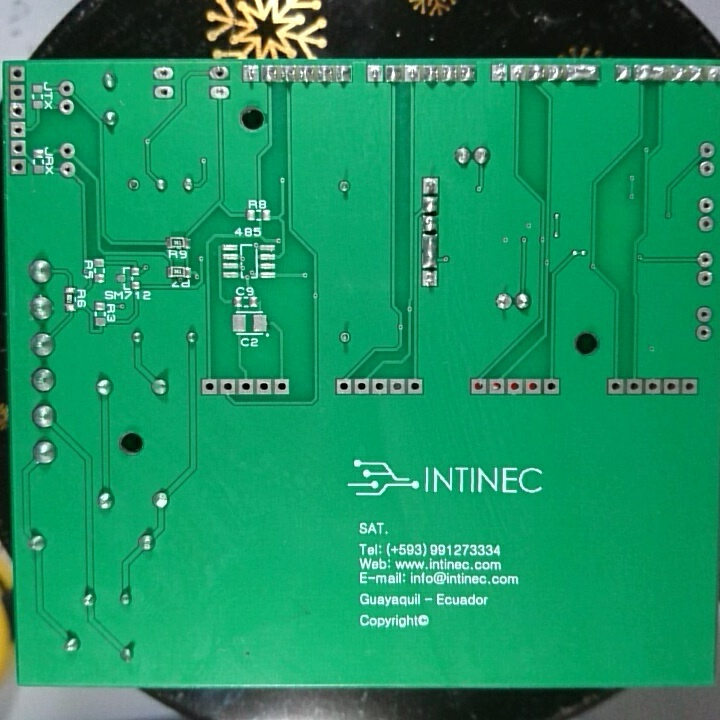F: (240, 63, 261, 87), (505, 376, 527, 398), (542, 376, 562, 400), (494, 290, 514, 314), (253, 376, 273, 400), (679, 375, 701, 396), (604, 375, 625, 397), (7, 62, 27, 85), (623, 377, 644, 398), (696, 213, 716, 235), (406, 375, 426, 397), (7, 99, 29, 119), (402, 63, 421, 86), (697, 157, 716, 180), (524, 376, 543, 399), (370, 375, 389, 398), (208, 64, 231, 83), (509, 63, 528, 86), (367, 63, 385, 87), (273, 376, 291, 400), (151, 63, 175, 81), (210, 85, 235, 102), (490, 62, 510, 83), (695, 250, 716, 270), (695, 268, 715, 289), (57, 97, 77, 118), (697, 138, 716, 160), (697, 193, 716, 215), (236, 376, 255, 398), (662, 375, 680, 398), (387, 375, 405, 398), (56, 80, 79, 98), (56, 160, 79, 178), (421, 269, 441, 289), (421, 175, 441, 195), (126, 173, 144, 195), (644, 375, 661, 398), (704, 63, 720, 87), (694, 322, 713, 342), (333, 376, 353, 395), (337, 328, 355, 349), (353, 375, 370, 397), (470, 375, 486, 398), (153, 84, 176, 100), (199, 378, 219, 396), (10, 118, 28, 138), (694, 305, 713, 323), (9, 82, 27, 100), (487, 377, 504, 396), (10, 158, 30, 174), (59, 140, 74, 161), (219, 378, 237, 395), (10, 138, 29, 152)
P: (632, 62, 670, 88), (561, 63, 601, 84), (421, 232, 441, 268)
